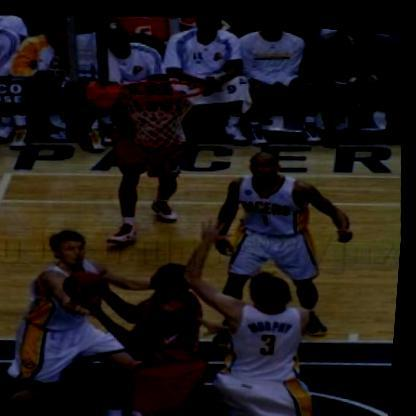basketball: (63, 260, 120, 309)
rim: (115, 63, 205, 148)
